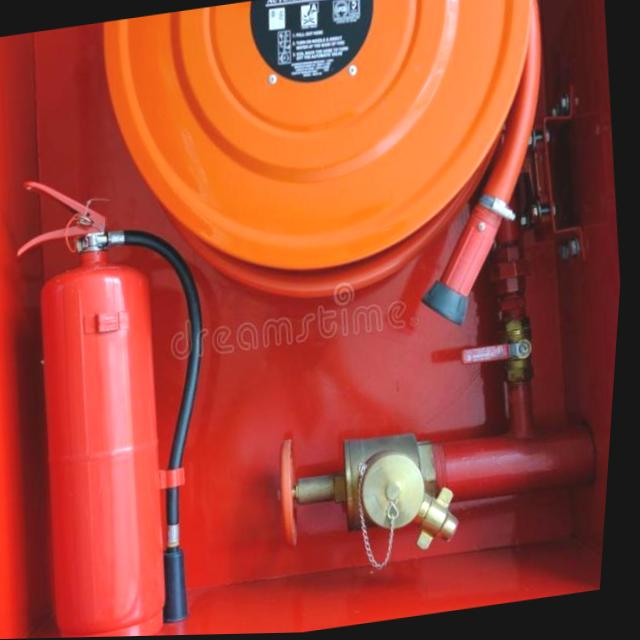FireExtinguisher: (0, 142, 259, 640)
